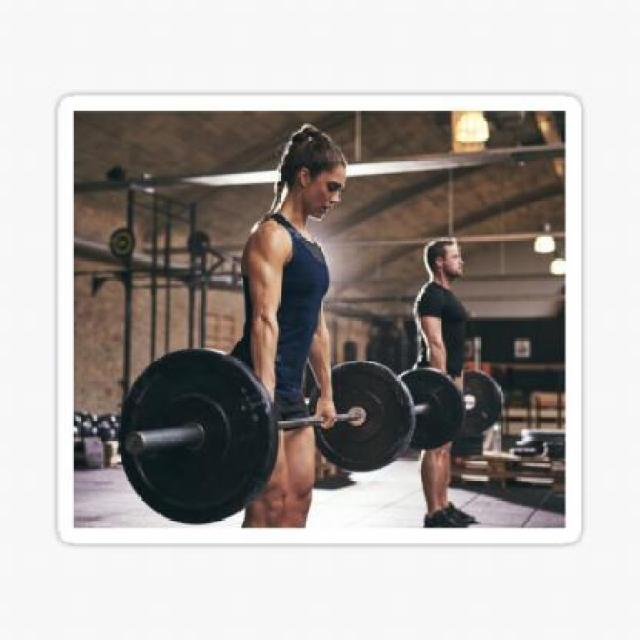barbell: (118, 343, 278, 530)
